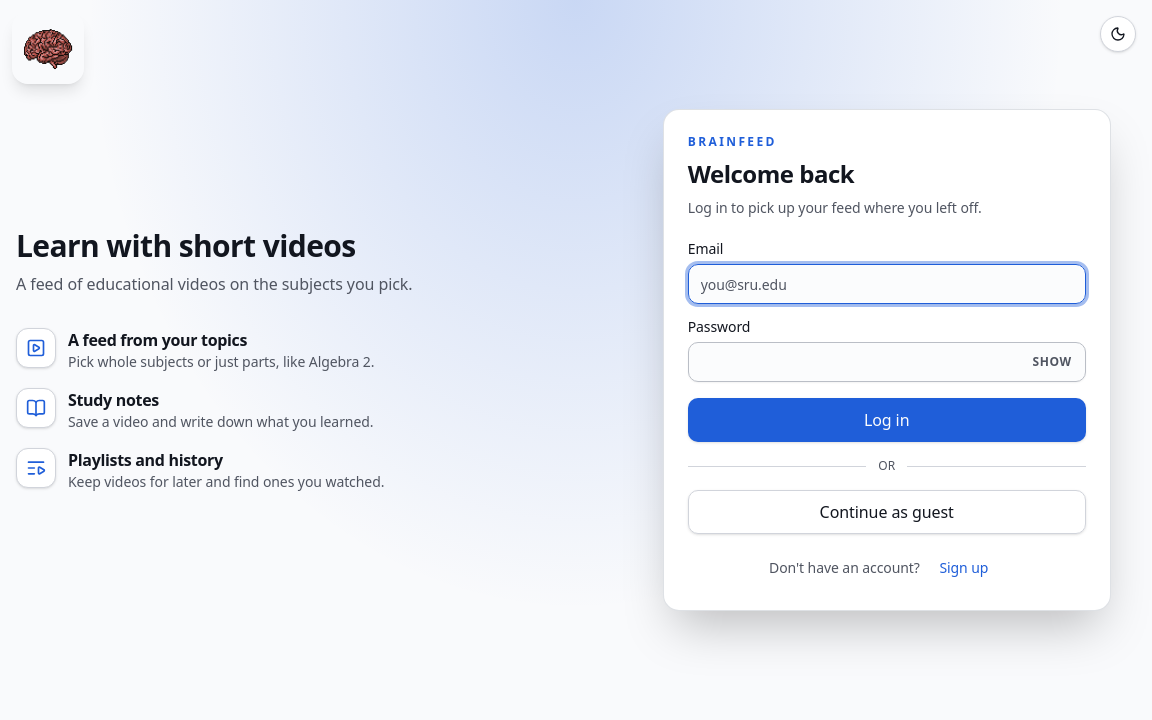
Test: LoginPage › checks the email before sending anything
The image size is (1152, 720).
Type "testuser" into the field labelled "Email". click: (887, 284)
box: [688,264,1086,304]
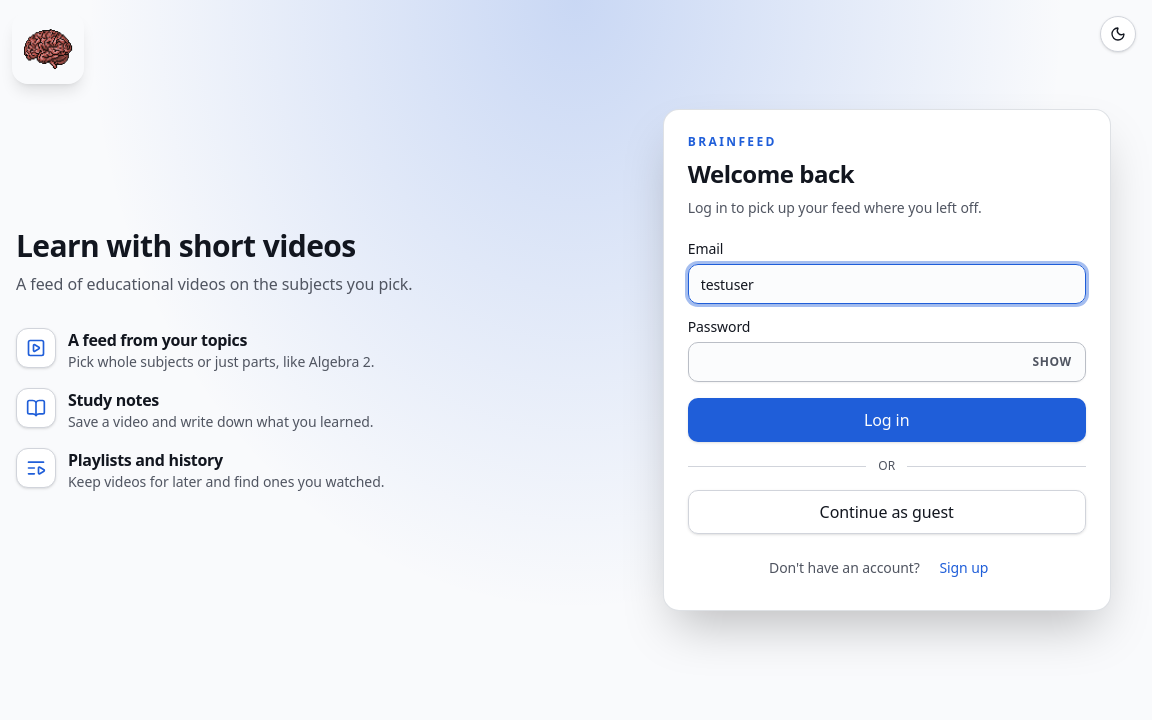
Type "simple test password" into the password field labelled "Password". click: (887, 362)
box: [688,342,1086,382]
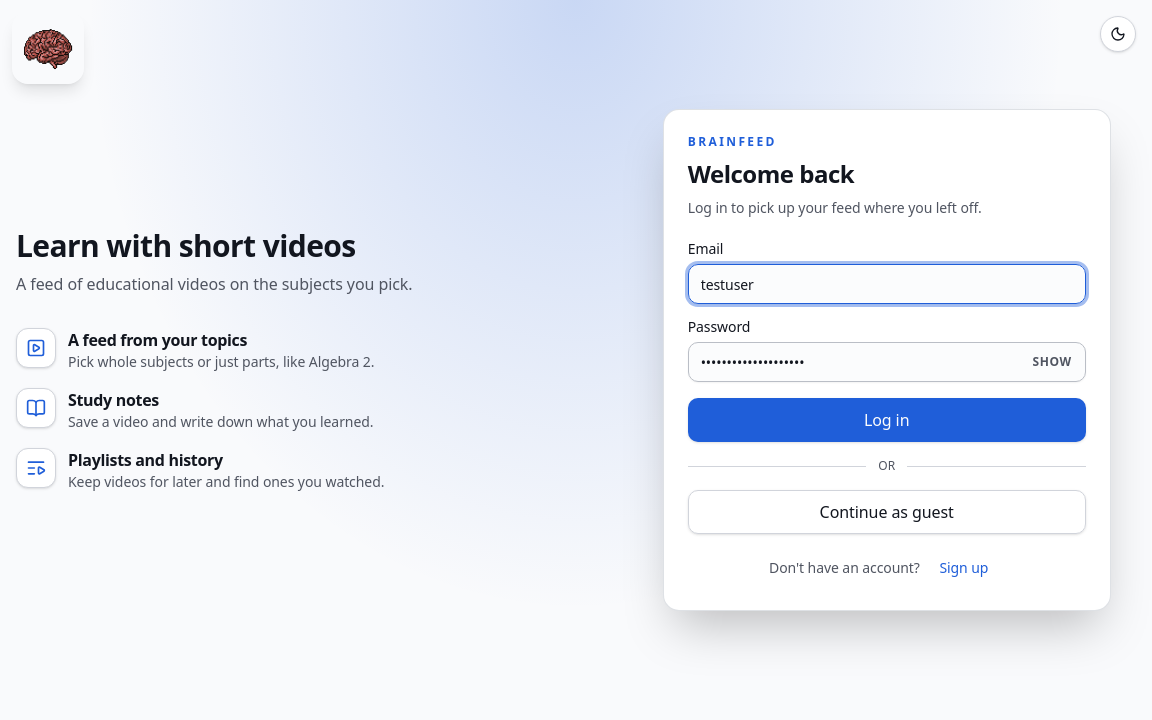
Click the button "Log in". click: (887, 420)
box: [688,398,1086,442]
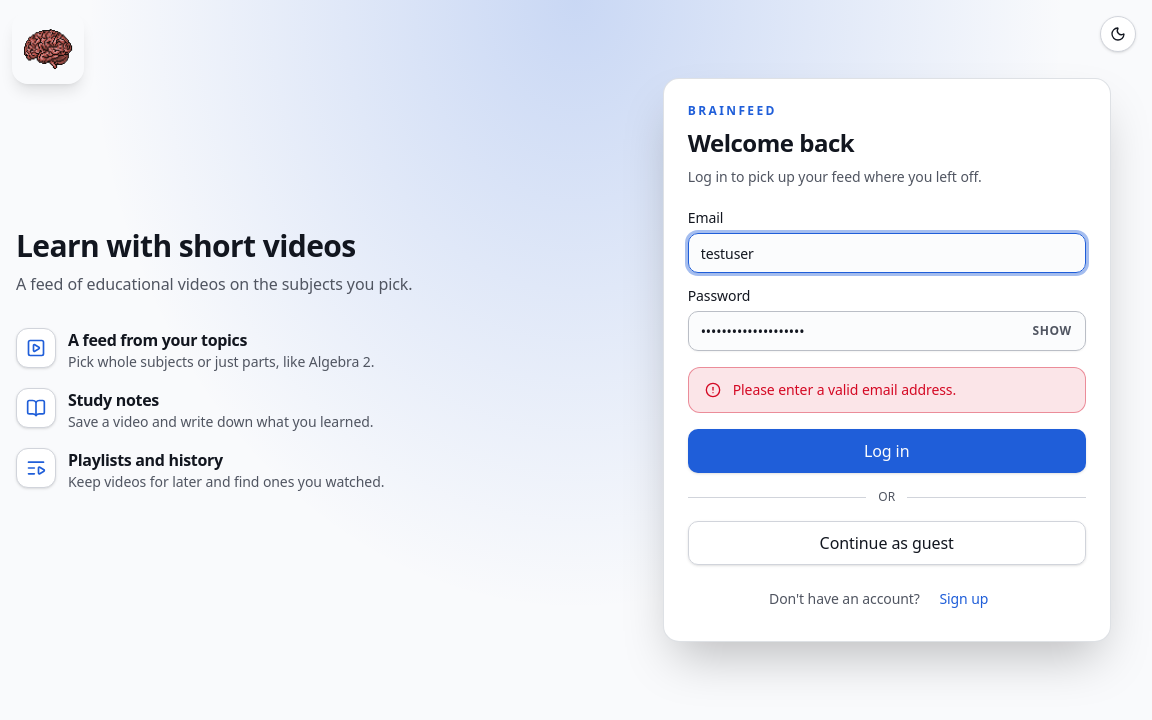
Expected: the message reads "Please enter a valid email address.", [733,380,956,399]
